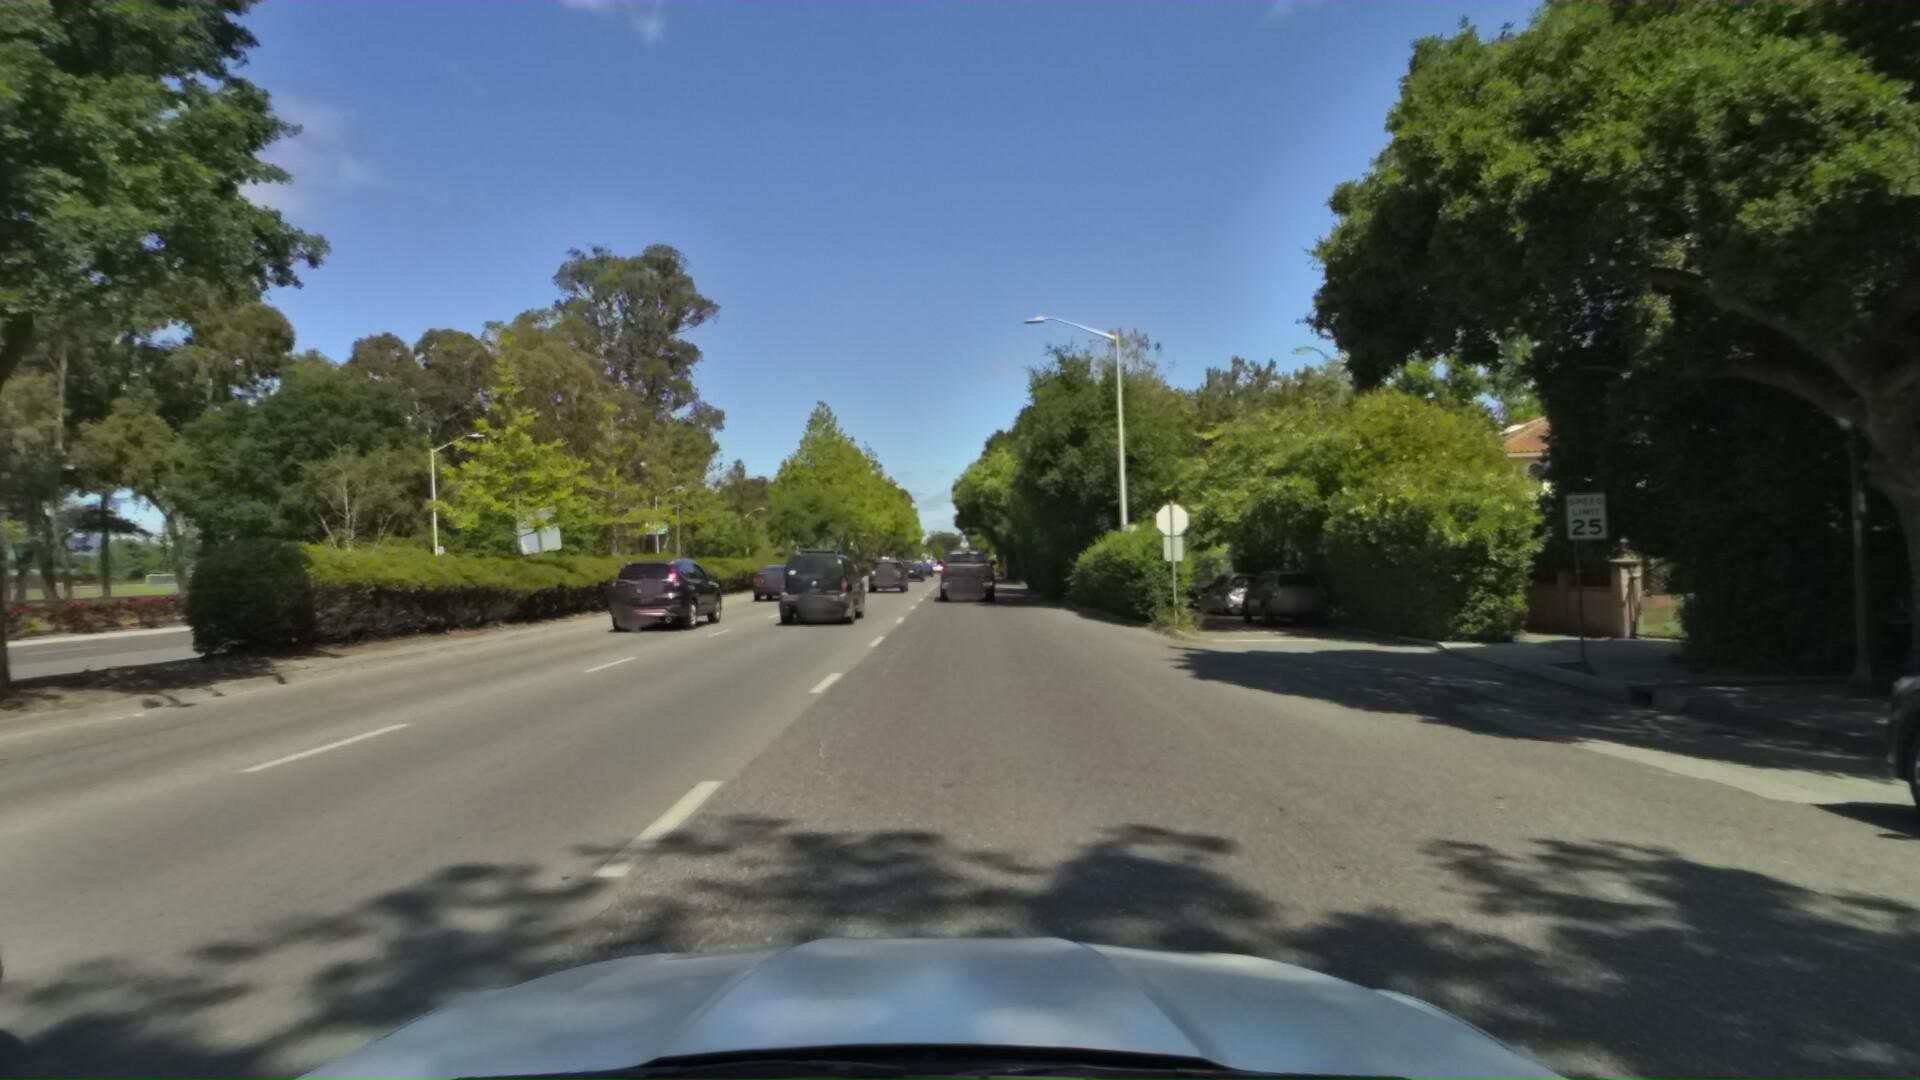car: (1862, 530, 1920, 1080), (600, 554, 728, 640), (773, 538, 868, 626), (1234, 558, 1337, 626), (934, 538, 996, 607), (1170, 568, 1246, 616), (1199, 566, 1275, 612), (745, 558, 808, 604), (862, 553, 907, 592), (831, 560, 869, 589), (899, 560, 927, 583)
